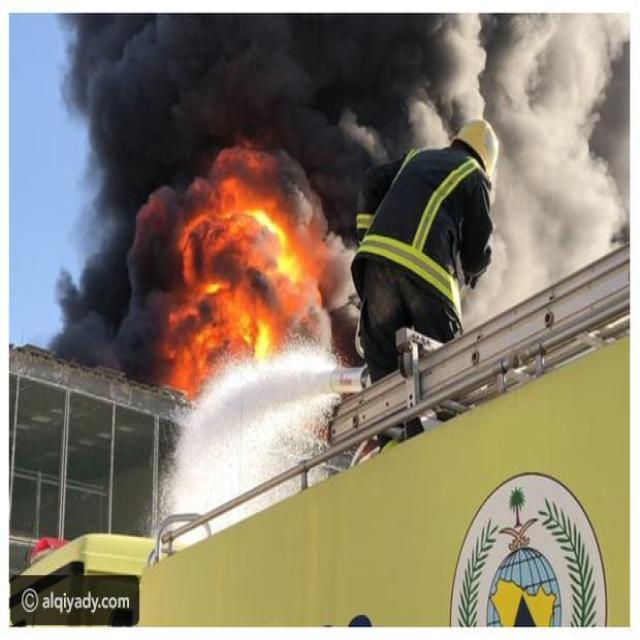Fire: (172, 150, 330, 398)
Smoke: (72, 9, 488, 168), (484, 13, 632, 306), (62, 170, 180, 376), (325, 170, 360, 290)
